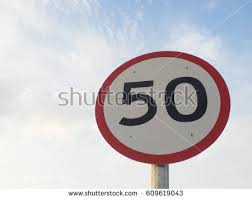Speed_limit_50km: (95, 52, 231, 163)
